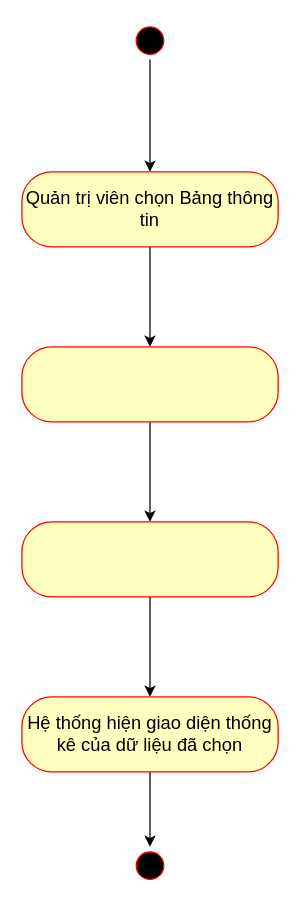
The diagram is 300 pixels wide and 906 high, and some of its shapes have lost their labels. Here are the shapes that lost their labels. From the top down, the box of each, then its label:
(21, 346, 278, 422): Hệ thống hiện giao diện thống kê
(21, 521, 278, 597): Quản trị viên chọn dữ liệu cần xem
